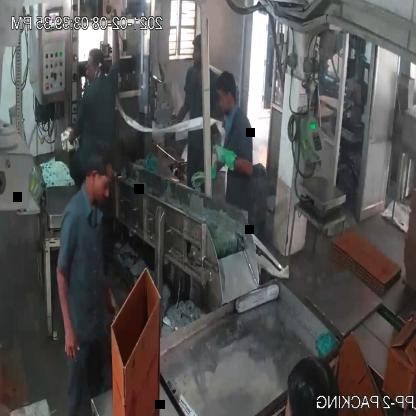glove: (214, 138, 256, 179)
no_glove: (51, 251, 76, 365)
